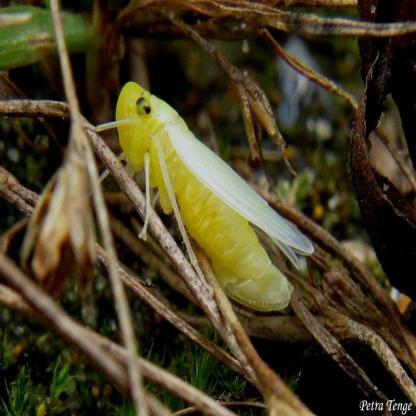Green-Leafhopper: (99, 83, 314, 317)
